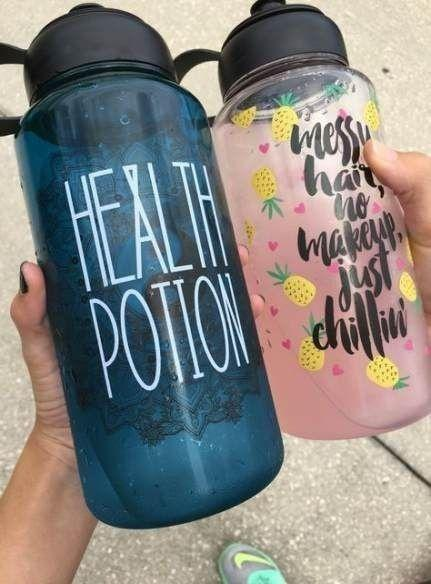gym bottle: (13, 1, 283, 527), (206, 2, 430, 437)
